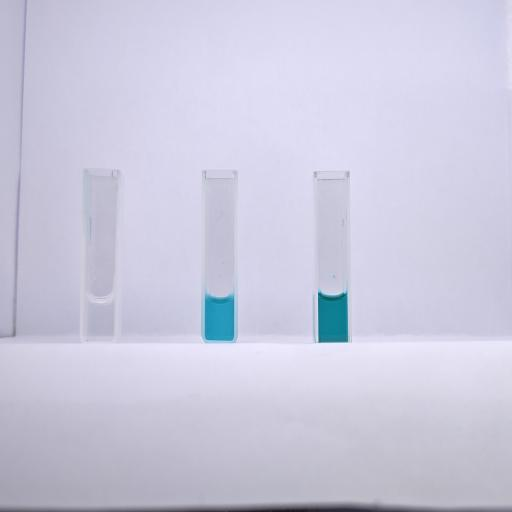cuvette: (78, 164, 123, 348), (312, 169, 354, 346), (199, 168, 240, 346)
liquid: (318, 292, 347, 341), (204, 294, 234, 340), (86, 295, 113, 339)
